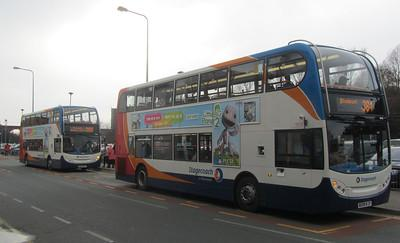bus: (113, 38, 395, 217), (16, 102, 104, 176)
